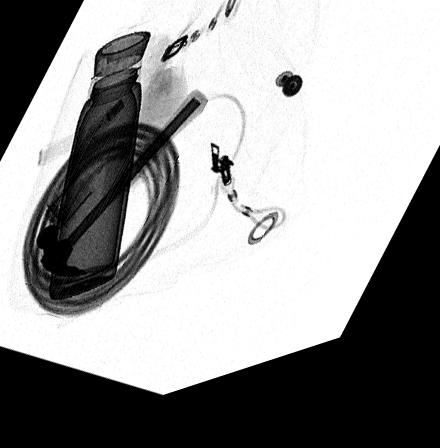Hammer: (34, 100, 208, 282)
